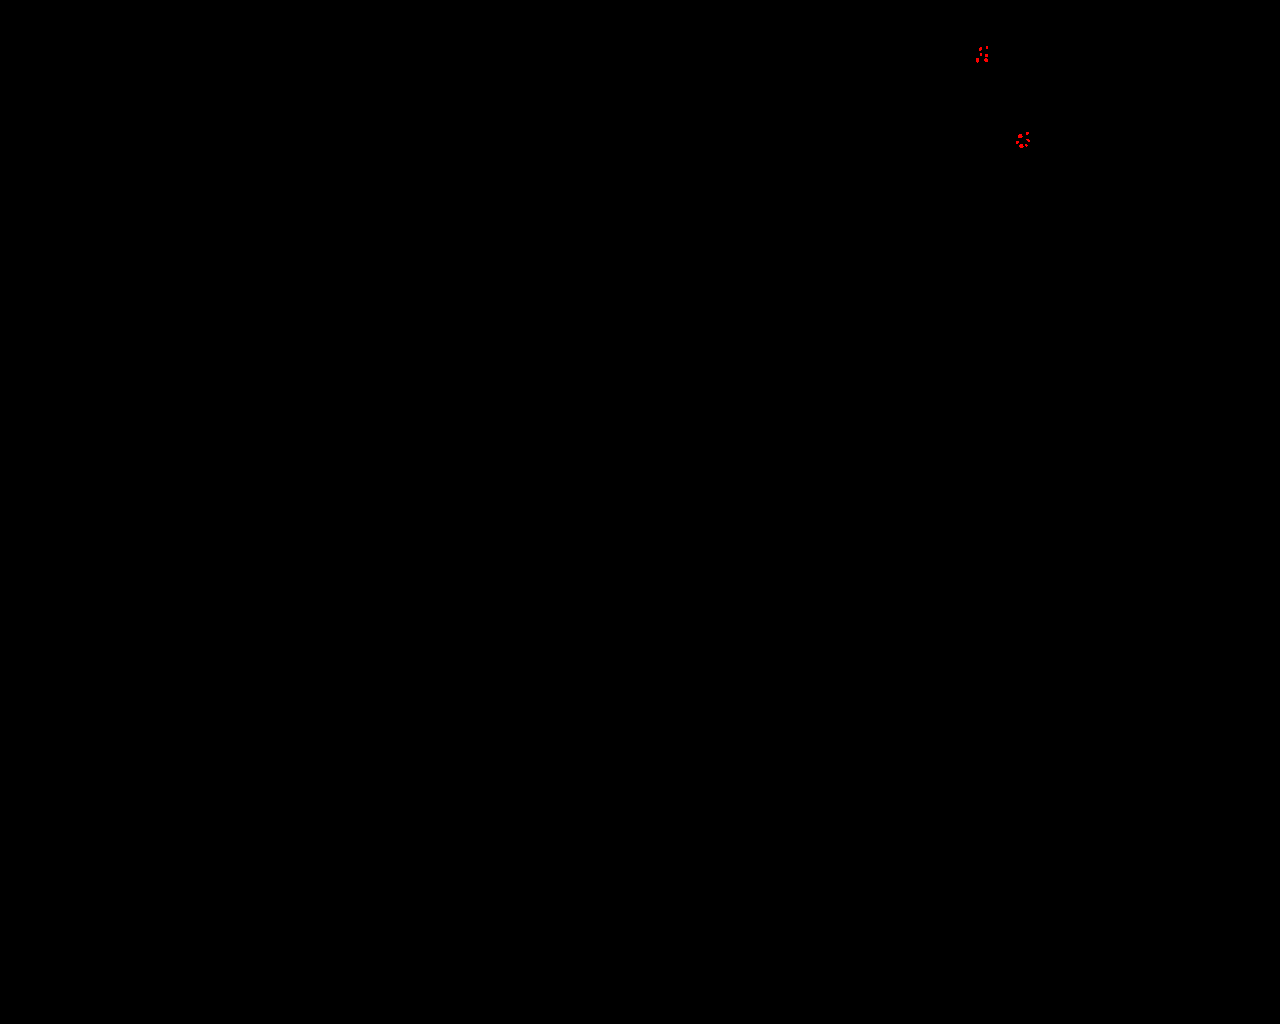Target: (1018, 134, 1023, 138), (1019, 144, 1024, 148), (979, 47, 982, 51), (976, 59, 979, 63), (984, 59, 988, 62), (1026, 139, 1030, 142), (985, 54, 988, 57), (1026, 132, 1029, 135), (1016, 141, 1019, 144), (1025, 144, 1028, 147), (986, 46, 988, 49), (980, 53, 982, 56)
